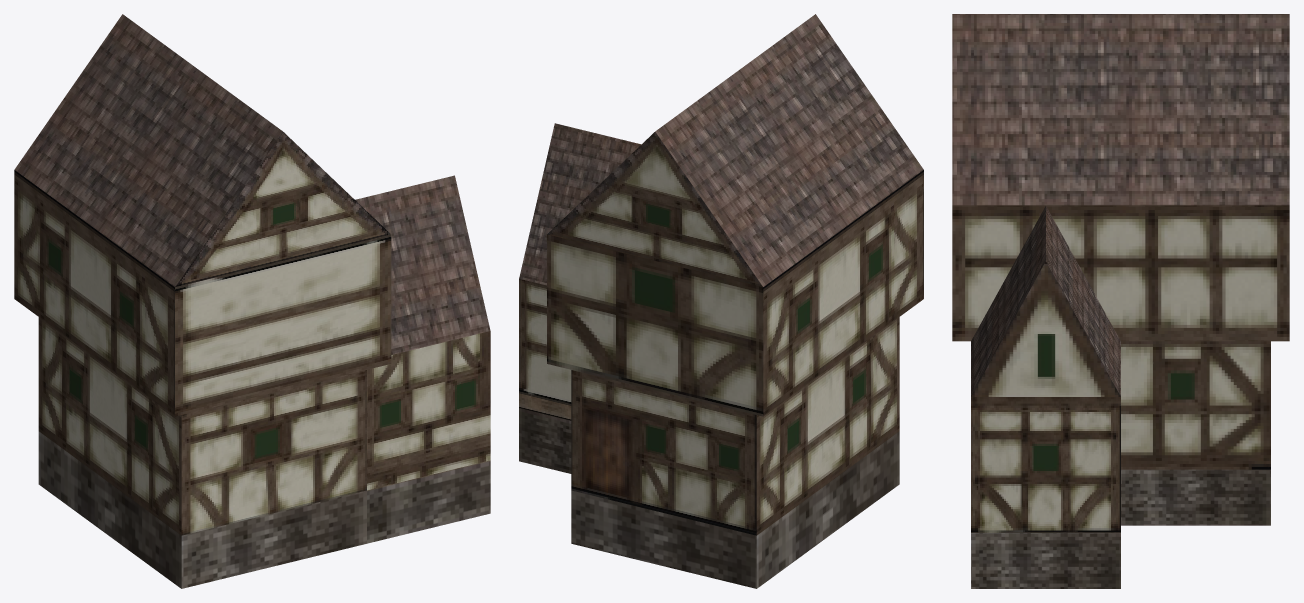
The model's file is LowPoly_Tomedelic_MedievalHouse_04.fbx.
The picture shows the model from 3 angles, left to right: view 1: azimuth 30°, elevation 25°; view 2: azimuth 150°, elevation 25°; view 3: azimuth 270°, elevation 25°; orthographic projection. The views are drawn at different scales.
Parts seen in each view (by area): view 1: Cube; view 2: Cube; view 3: Cube.
Boxes of the visible parts, x1,y1,x2,y2 form: Cube: (14, 14, 490, 588); Cube: (519, 14, 923, 588); Cube: (952, 14, 1289, 588).
Bounding box in the file's own units: 525 × 682 × 450.
